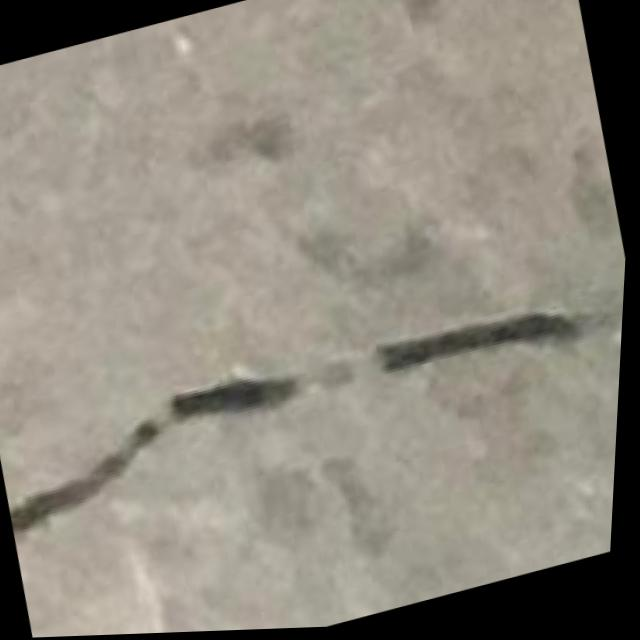Crack: (0, 258, 629, 541)
